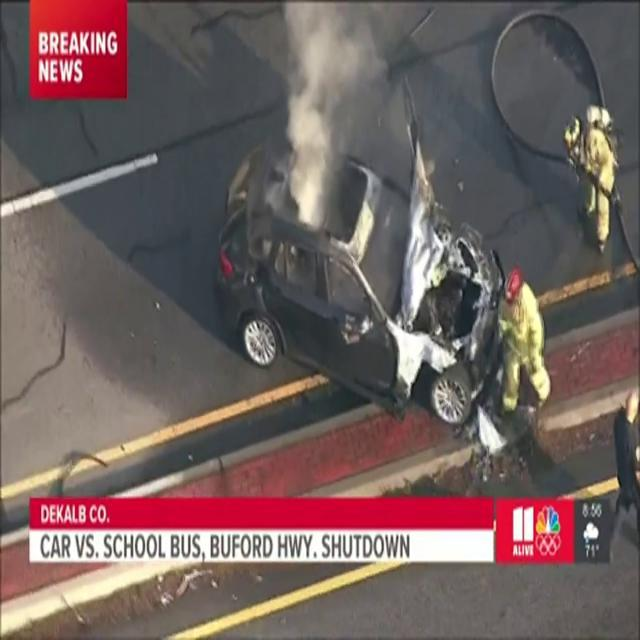Smoke: (272, 2, 424, 238)
